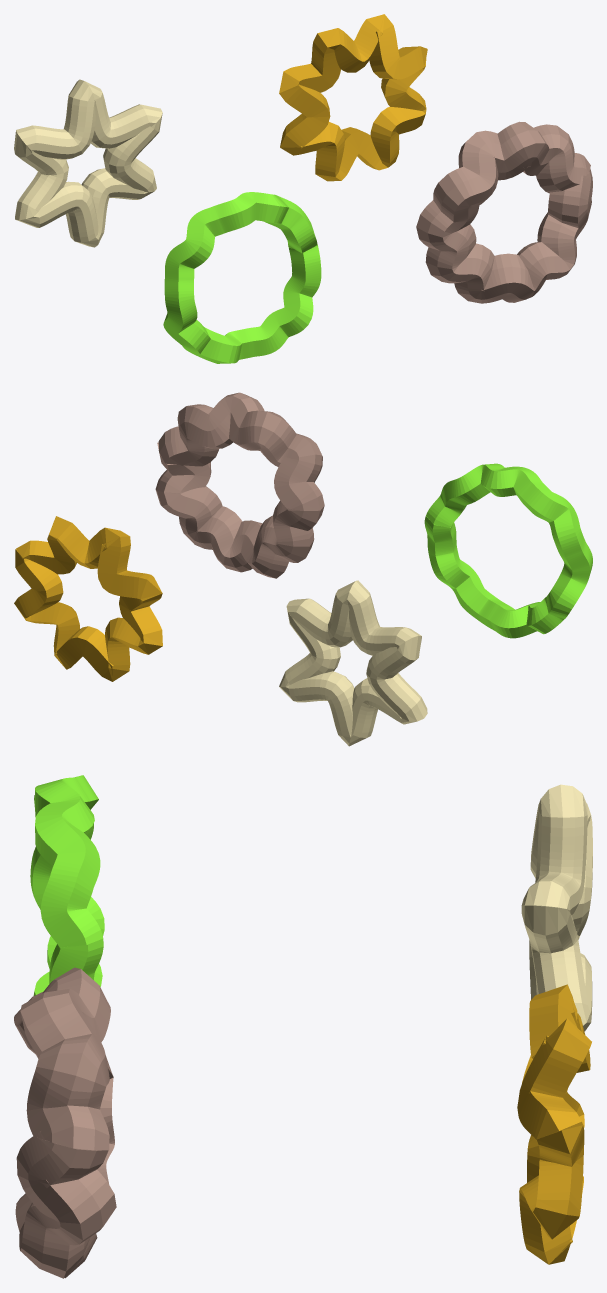
The model's file is Lambert Flat_Closed Spline_2023-07-23-20-47-44.gltf.
The picture shows the model from 3 angles, top to bottom: view 1: azimuth 30°, elevation 25°; view 2: azimuth 150°, elevation 25°; view 3: azimuth 270°, elevation 25°; orthographic projection. The views are drawn at different scales.
Bounding box in the file's own units: 323 × 127 × 237.
